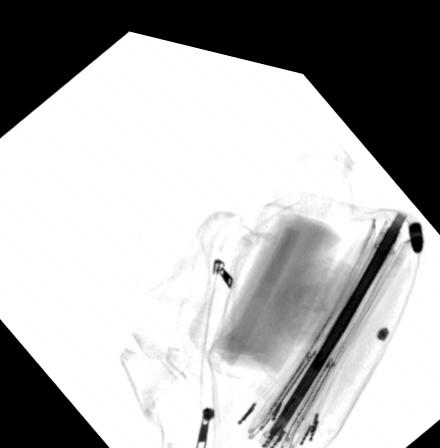Bullet: (404, 200, 422, 234)
